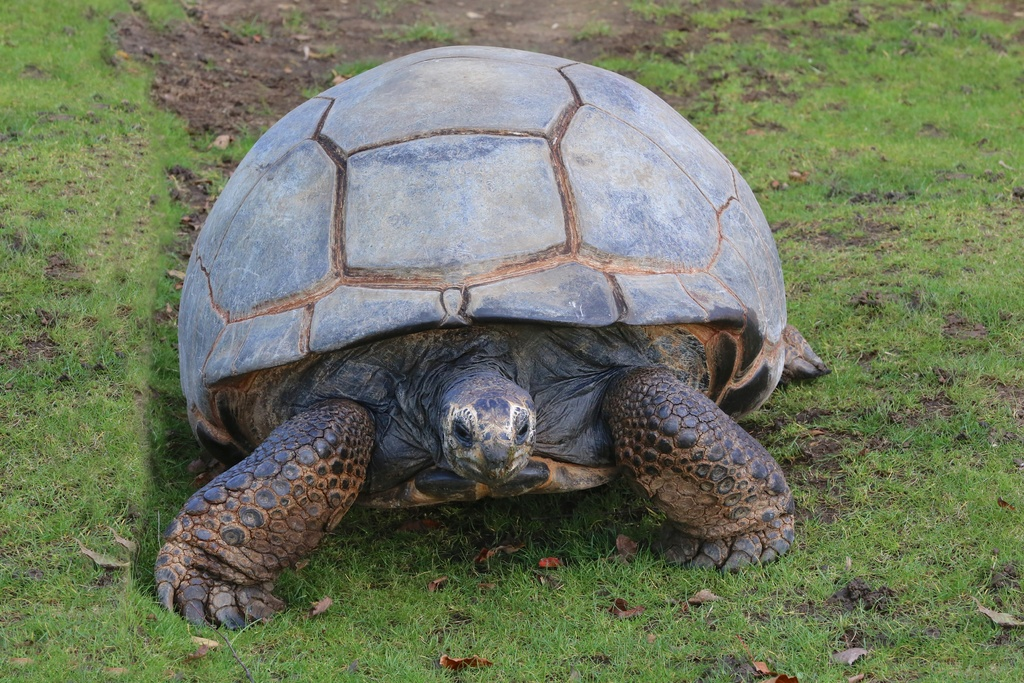Sea turtles: (153, 40, 833, 629)
